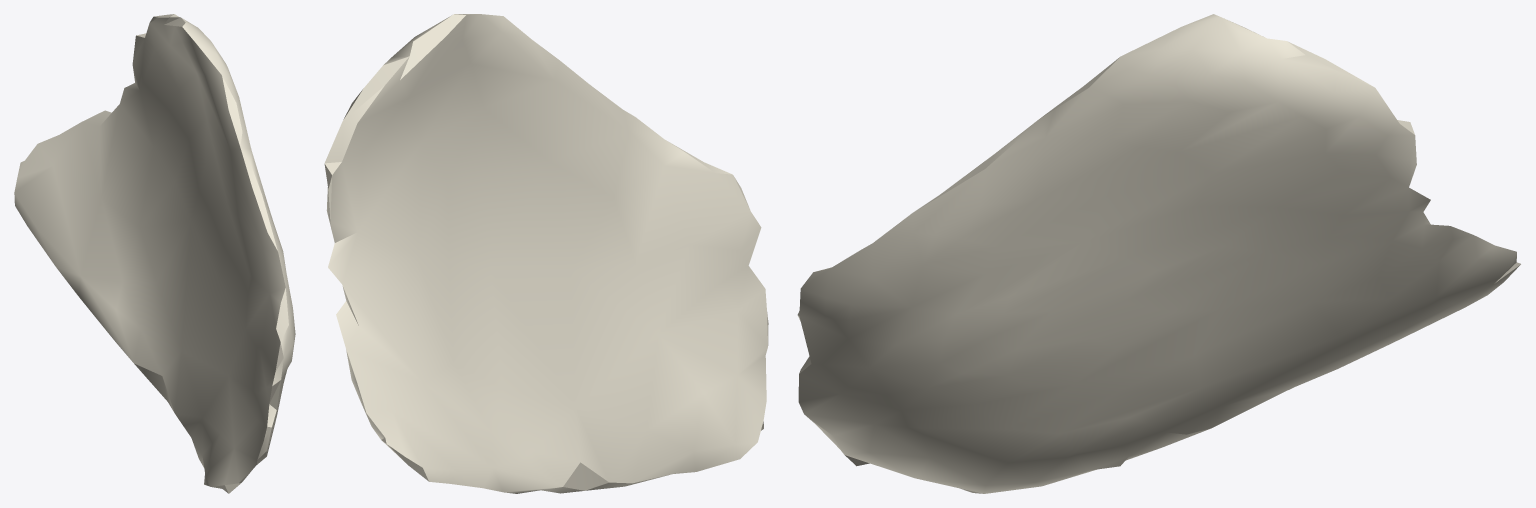
Rendered from fma321700-r_mm1459m.glb.
3 views of the same model, side by side, from view 1: azimuth 30°, elevation 25°; view 2: azimuth 150°, elevation 25°; view 3: azimuth 270°, elevation 25° (orthographic). The views are drawn at different scales.
Visible parts, largest first — view 1: FMA321700-R_MM1459M; view 2: FMA321700-R_MM1459M; view 3: FMA321700-R_MM1459M.
Boxes of the visible parts, x1=… form: FMA321700-R_MM1459M: x1=14, y1=14, x2=295, y2=493; FMA321700-R_MM1459M: x1=324, y1=14, x2=768, y2=493; FMA321700-R_MM1459M: x1=797, y1=14, x2=1520, y2=493.
Size of the model in its own units: 0.00192 by 0.00544 by 0.00687.
